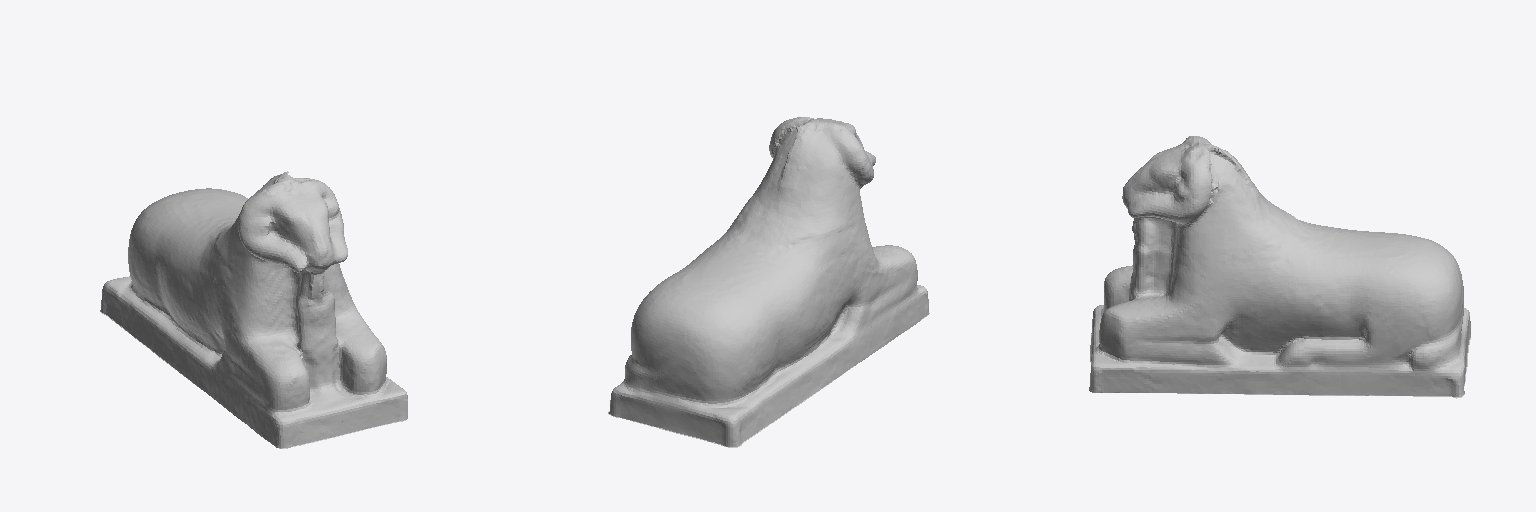
File: ram.obj
The picture shows the model from 3 angles: view 1: azimuth 30°, elevation 25°; view 2: azimuth 150°, elevation 25°; view 3: azimuth 270°, elevation 25°; orthographic projection.
Visible parts, largest first — view 1: Object_4; view 2: Object_4; view 3: Object_4.
Boxes of the visible parts, x1,y1,x2,y2 form: Object_4: [100, 171, 407, 448]; Object_4: [608, 117, 929, 447]; Object_4: [1089, 136, 1470, 398].
Bounding box in the file's own units: 0.7044 × 1.03 × 1.65.